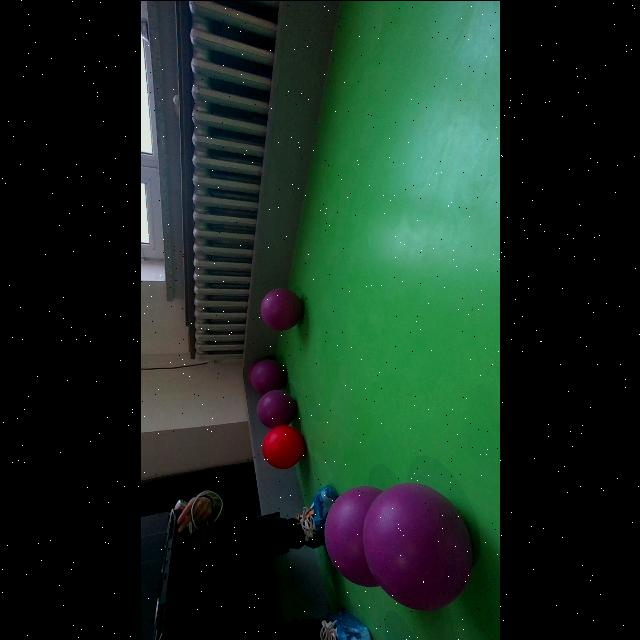P: (362, 482, 473, 610), (328, 490, 390, 584), (260, 286, 302, 330), (257, 388, 297, 428), (250, 359, 286, 395)
R: (262, 424, 304, 468)
